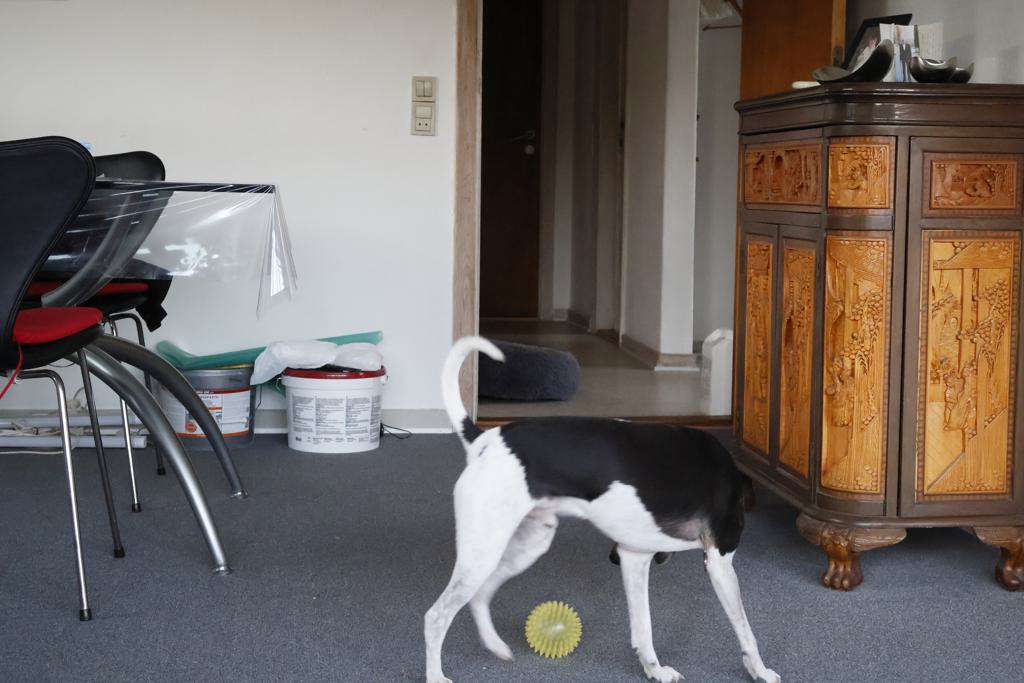Dog: (402, 326, 806, 683)
